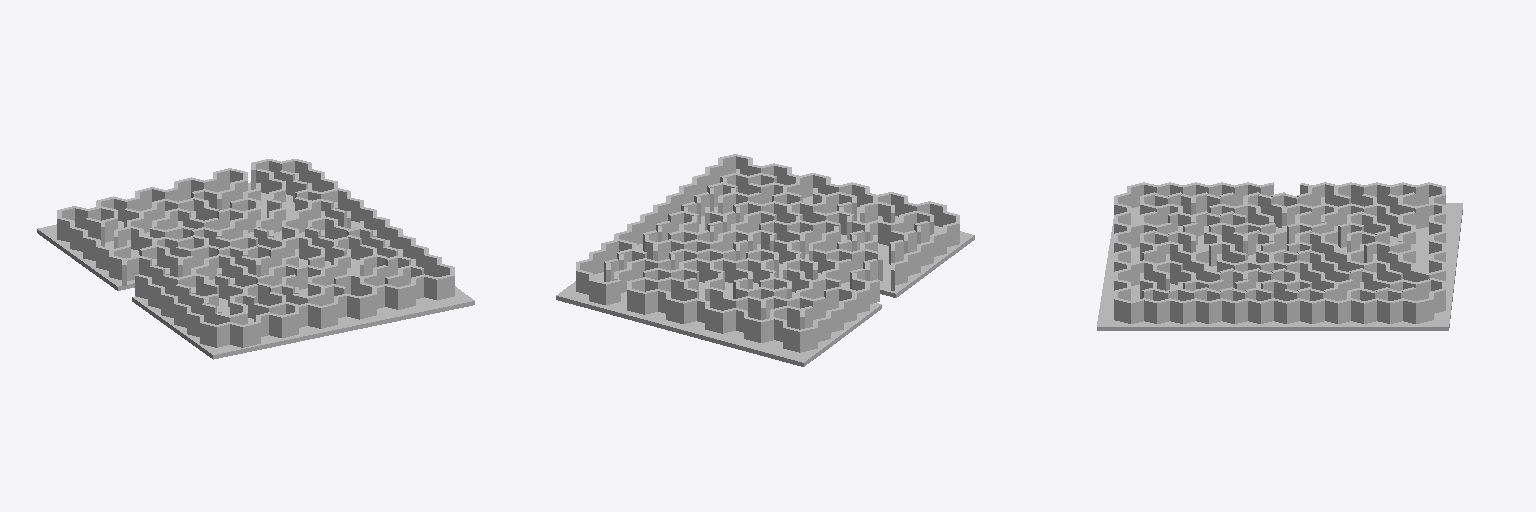
The model's file is maze_hard_2.obj.
3 renders of one model, left to right at view 1: azimuth 30°, elevation 25°; view 2: azimuth 150°, elevation 25°; view 3: azimuth 270°, elevation 25°, orthographic.
Parts seen in each view (by area): view 1: Curve.021_Mesh.011; view 2: Curve.021_Mesh.011; view 3: Curve.021_Mesh.011.
Part boxes in pixels (x1,y1,x2,y2): Curve.021_Mesh.011: (37,159,474,359); Curve.021_Mesh.011: (556,154,974,366); Curve.021_Mesh.011: (1097,182,1462,330).
Bounding box in the file's own units: 12.83 × 1.26 × 15.99.